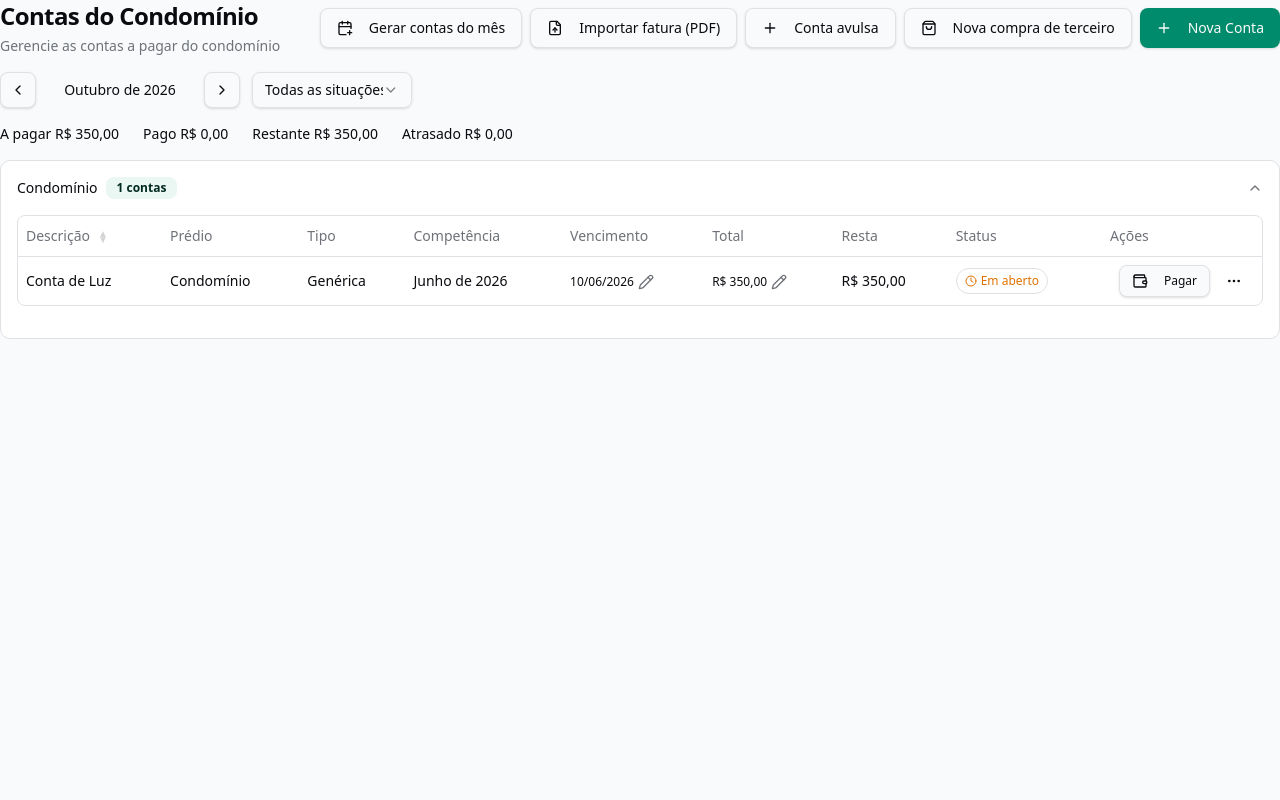
Test: BillsPage — import fatura + disambiguated accounts › renders two same-type accounts with distinct disambiguated labels "name — tipo · external_identifier"
Click the button "Nova Conta" at (1210, 28), box [1140,8,1279,48]
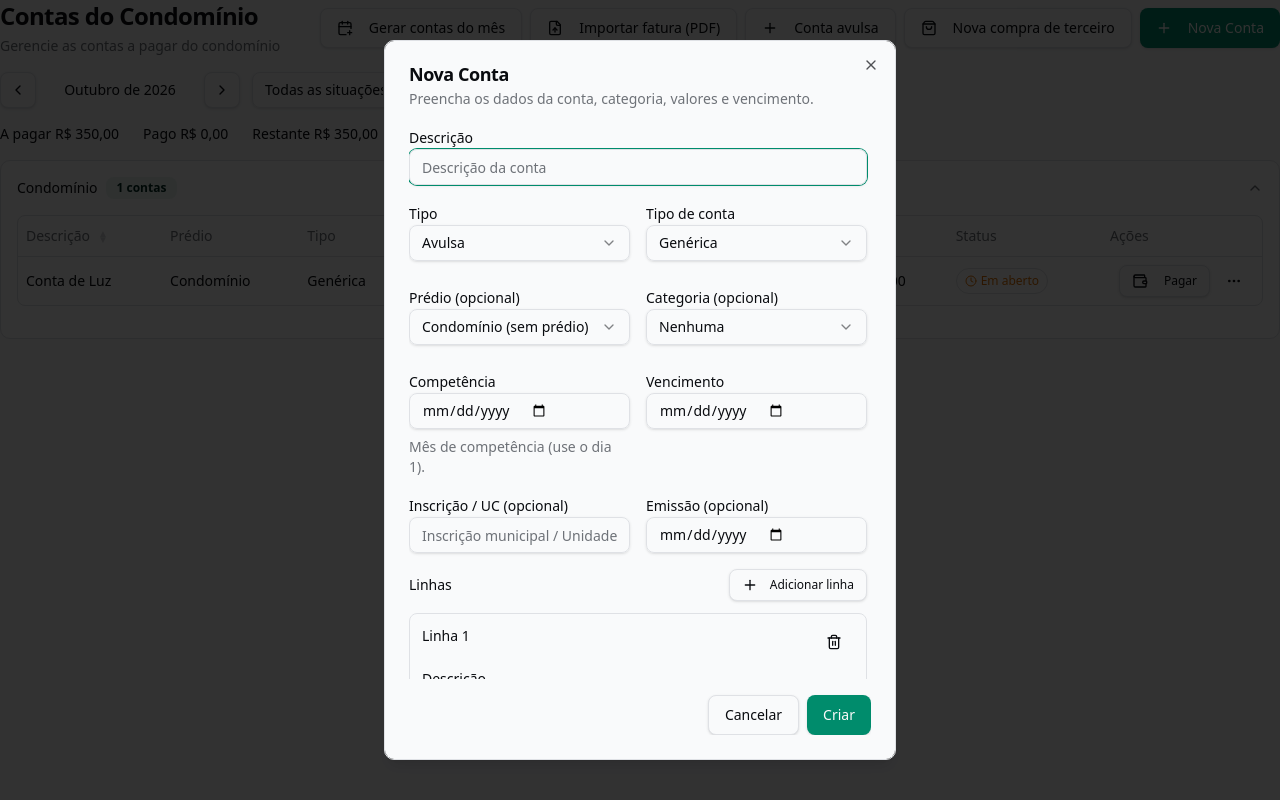
// Switch to recurring to reveal the billing-account select.
Click the dropdown named "Tipo" at (520, 243), box [409,225,630,261]
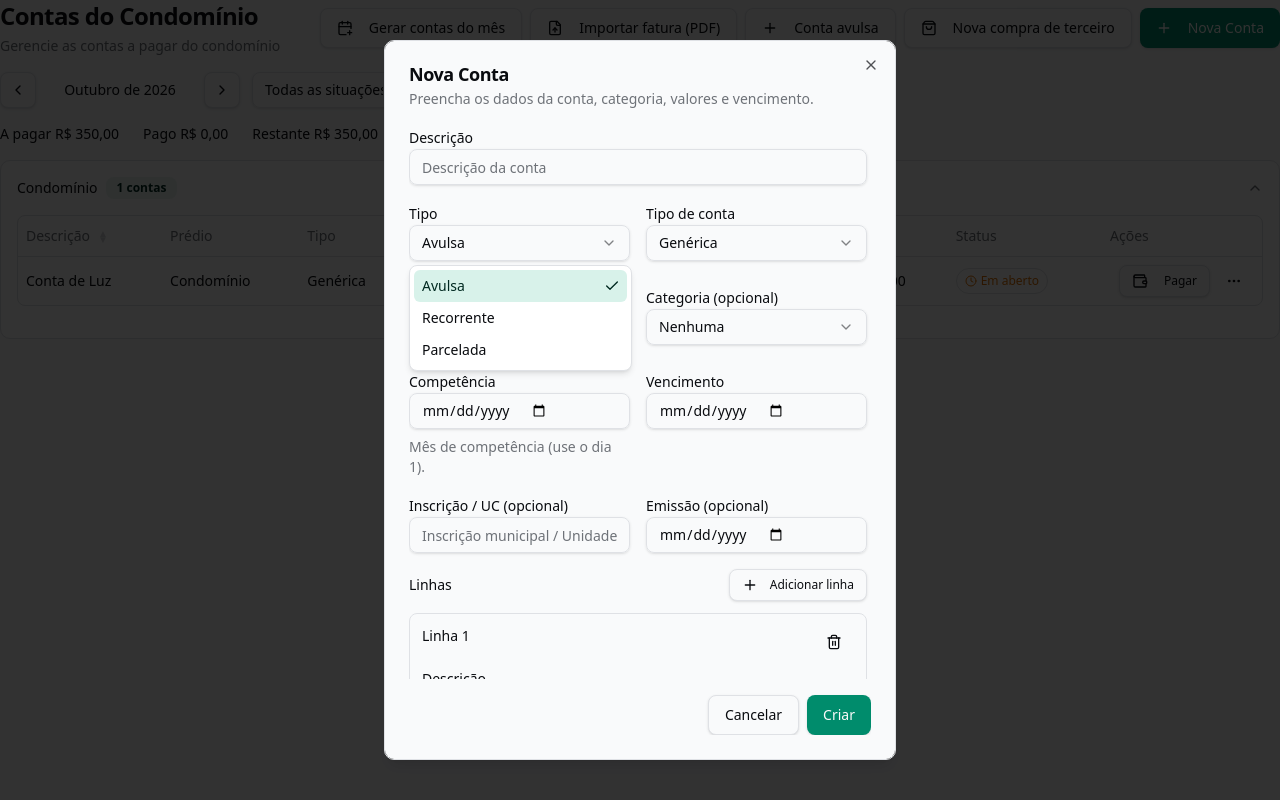
Click the option "Recorrente" at (458, 318), box [422,308,495,327]
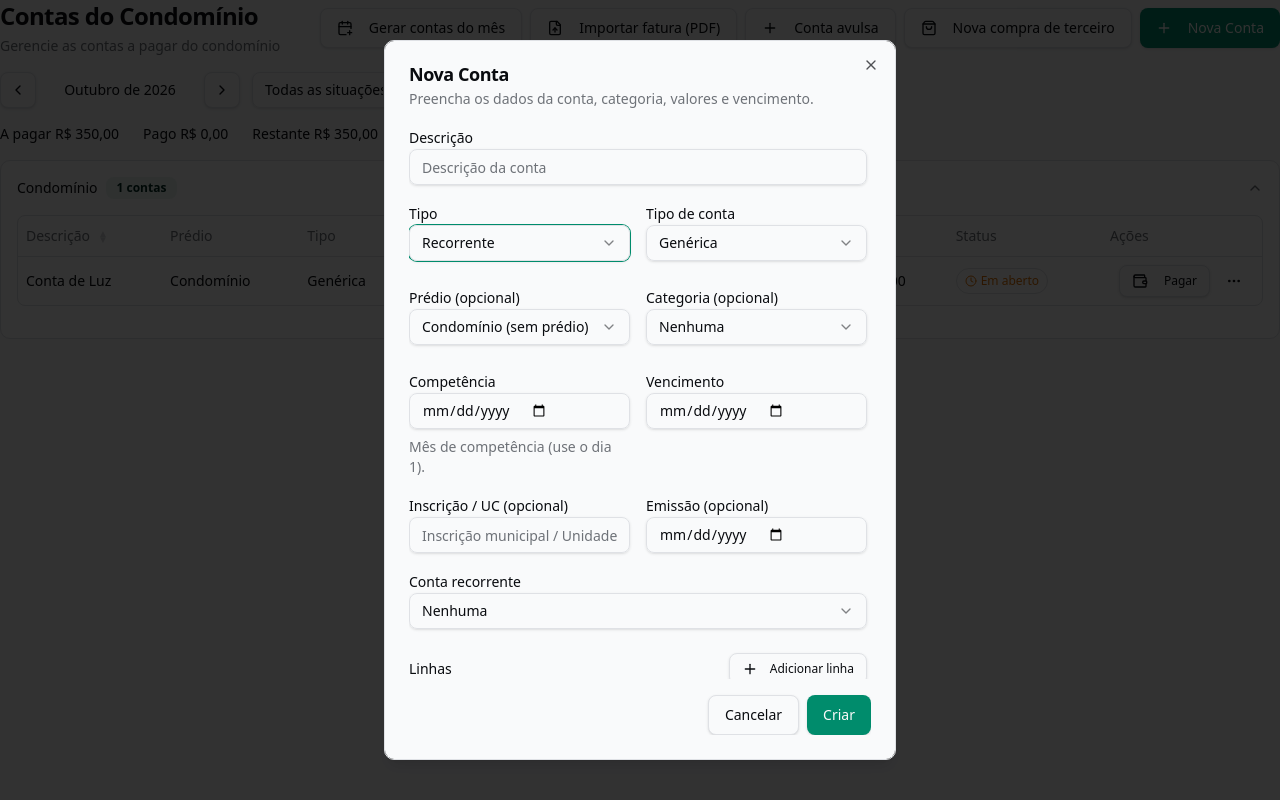
Click the text "Conta recorrente" at (465, 582), box [409,572,521,591]
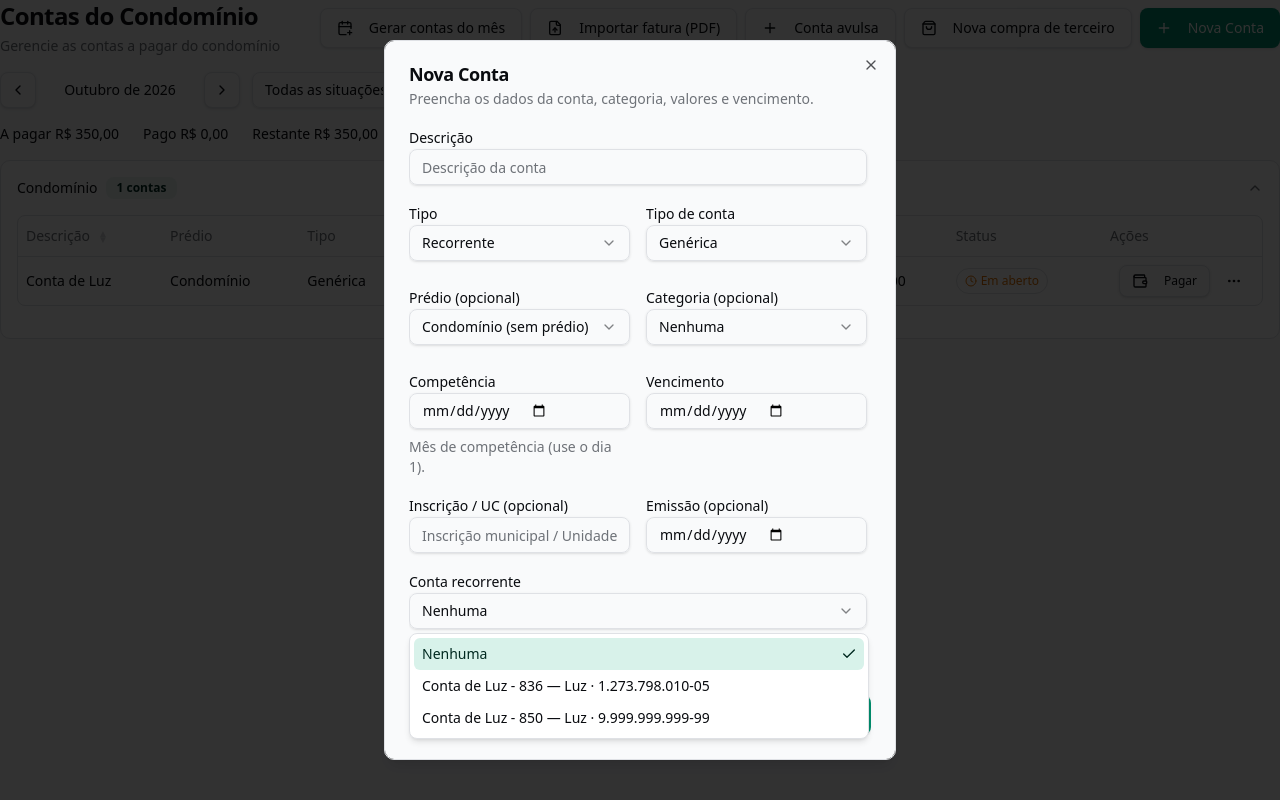
expect the option "Conta de Luz - 836 — Luz · 1.273.798.010-05" is shown: met, box [422,676,710,695]
expect the option "Conta de Luz - 850 — Luz · 9.999.999.999-99" is shown: met, box [422,708,710,727]
